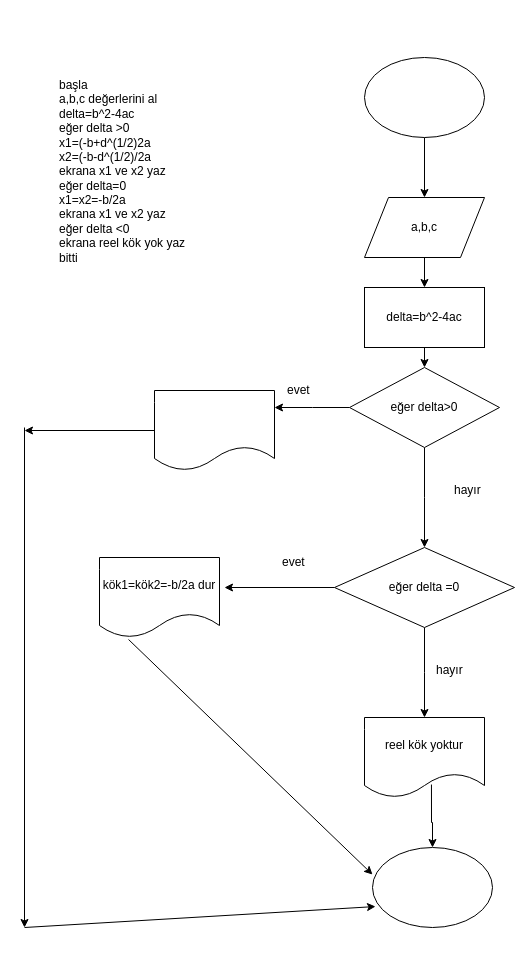
The diagram is 532 pixels wide and 953 high, and some of its shapes have lost their labels. The centre of each missing label's shape, as x and y in pixels:
"başla" belongs at pixel 424 97.
"bitiş" belongs at pixel 432 887.
"kök1 (-b+d^(1/2)2a dır kök2 (-b-d^(1/2)/2a dır" belongs at pixel 214 430.
